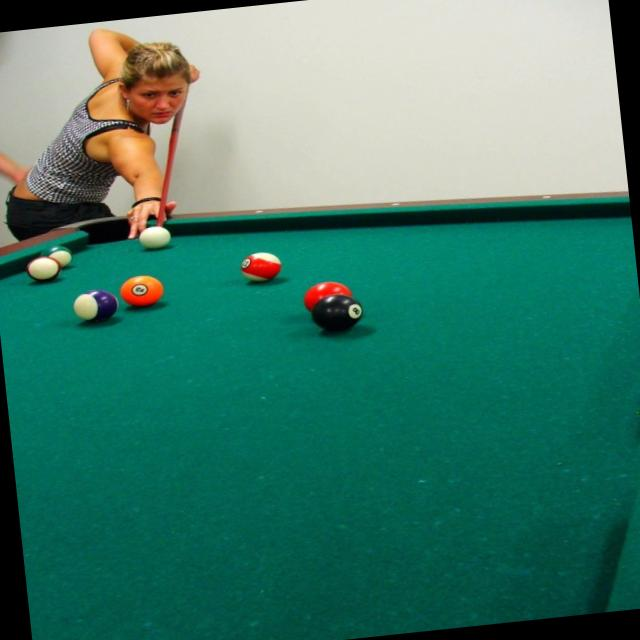Ball: (24, 205, 363, 362)
